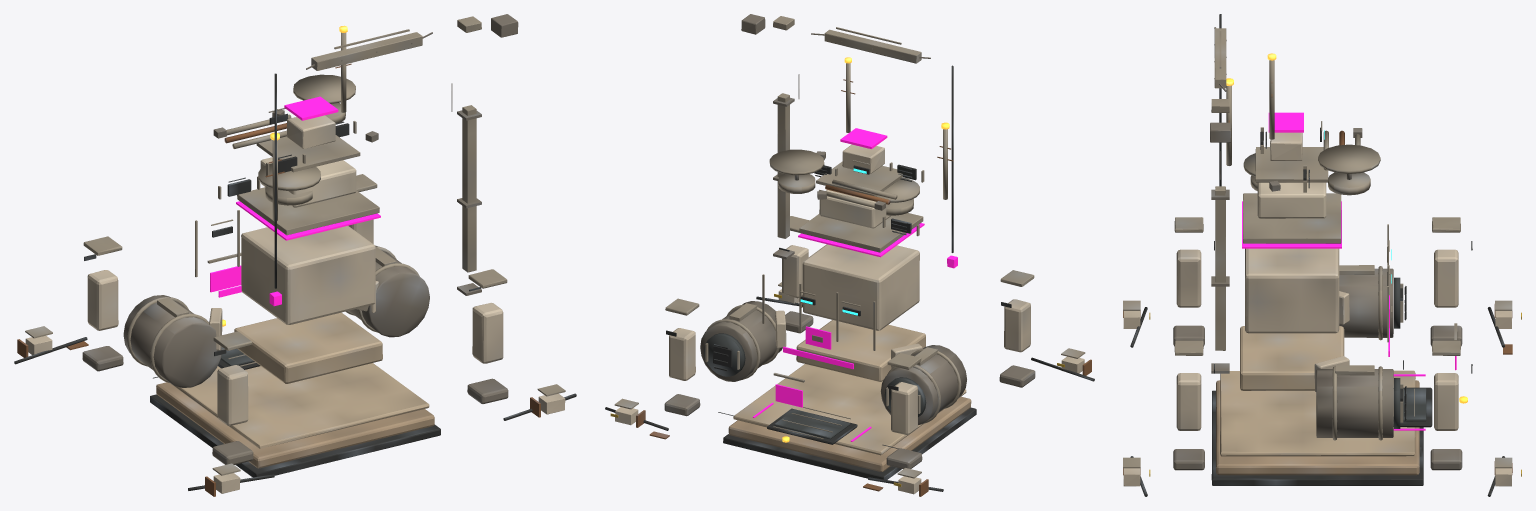
3 renders of one model, left to right at view 1: azimuth 30°, elevation 25°; view 2: azimuth 150°, elevation 25°; view 3: azimuth 270°, elevation 25°, orthographic. The views are drawn at different scales.
Parts seen in each view (by area): view 1: Sandwar3D; view 2: Sandwar3D; view 3: Sandwar3D.
Boxes of the visible parts, x1=… form: Sandwar3D: x1=14, y1=14, x2=576, y2=496; Sandwar3D: x1=605, y1=14, x2=1094, y2=496; Sandwar3D: x1=1123, y1=14, x2=1521, y2=496.
Size of the model in its own units: 3.1 by 3.13 by 2.79.
Materials: 13 (12 with a texture image).
